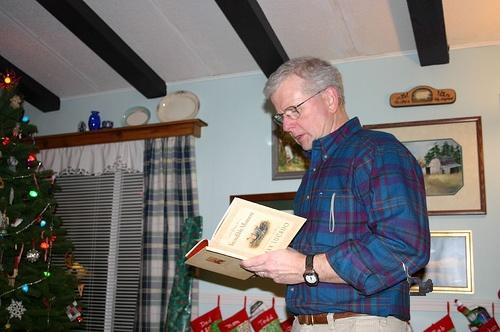tampered: (403, 263, 433, 296)
